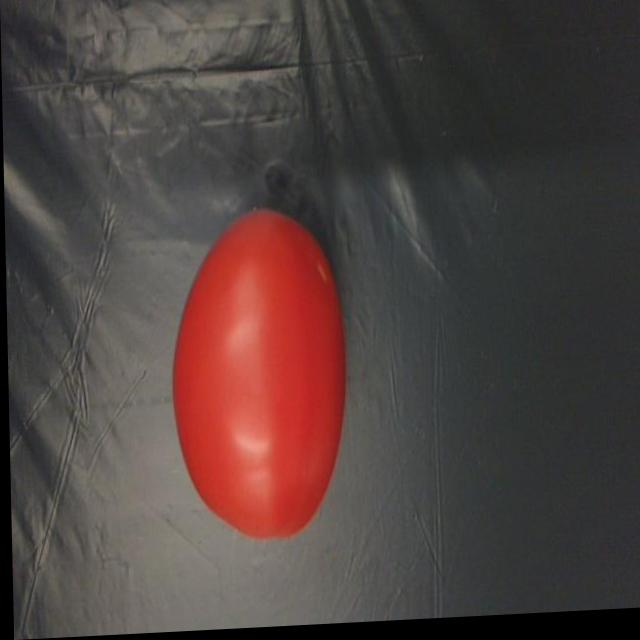kirmizi: (142, 211, 370, 564)
